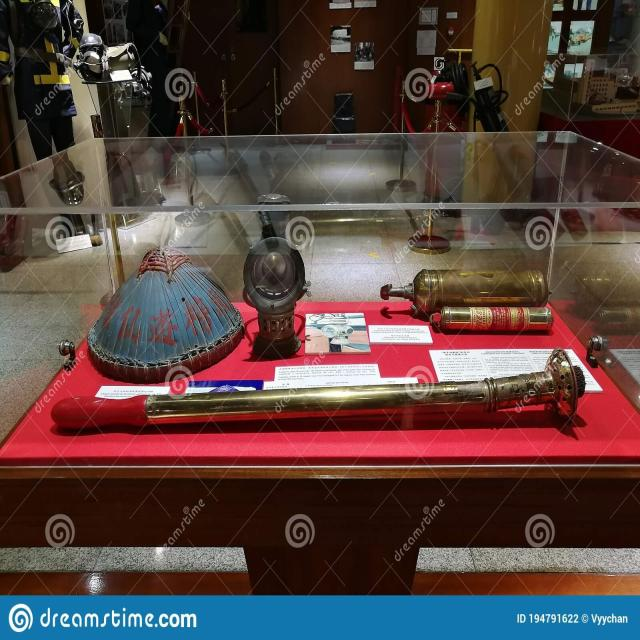fire_extinguisher: (371, 263, 552, 317), (422, 295, 556, 337)
